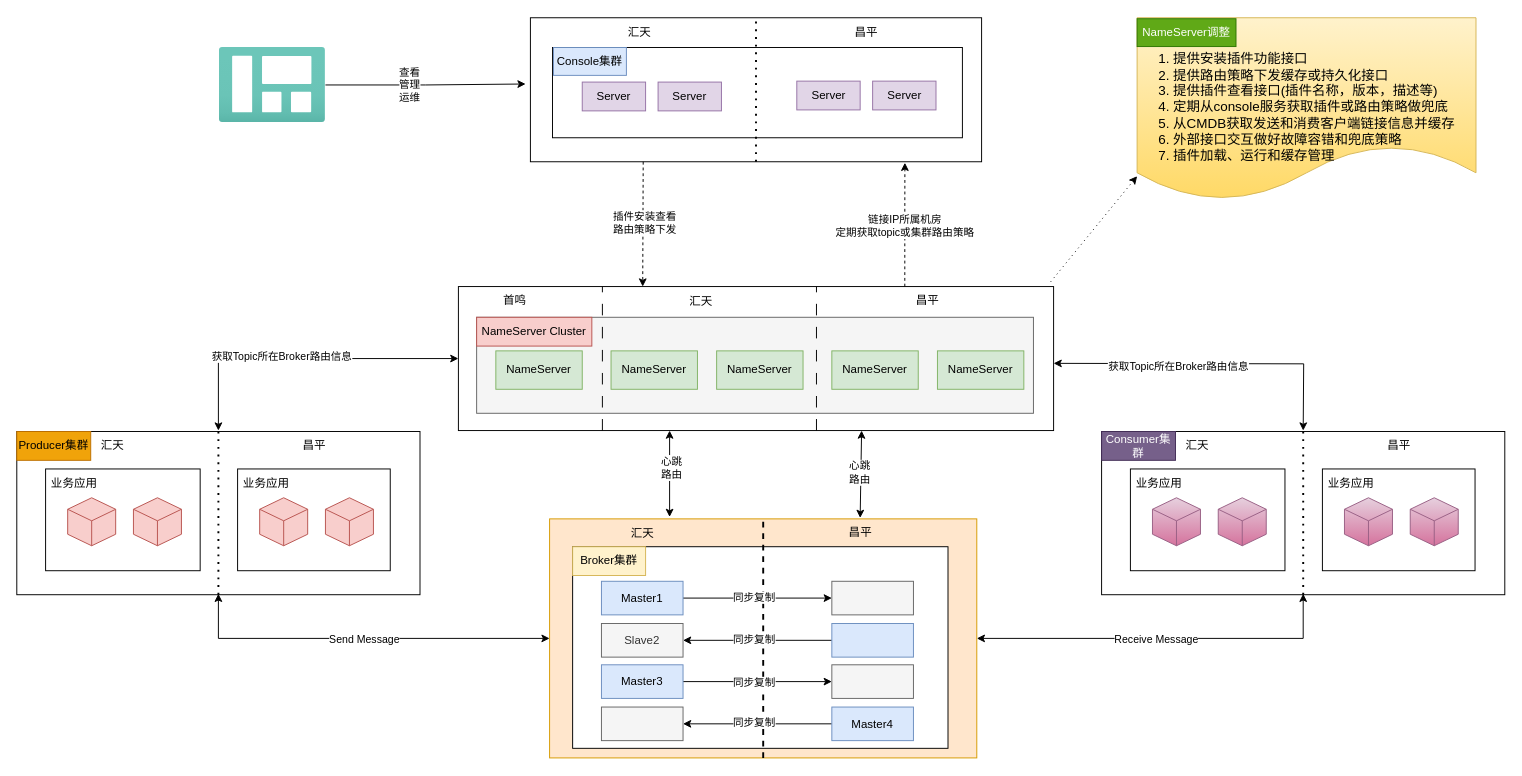
Some shapes in this 1522 by 776 pixel diagram are drawn without their labels. Each missing label, with the centre of its shape:
"Dashboard" goes at point 272,84.
"Master2" goes at point 872,640.
"Slave1" goes at point 872,597.
"Slave3" goes at point 872,681.
"Slave4" goes at point 641,723.
